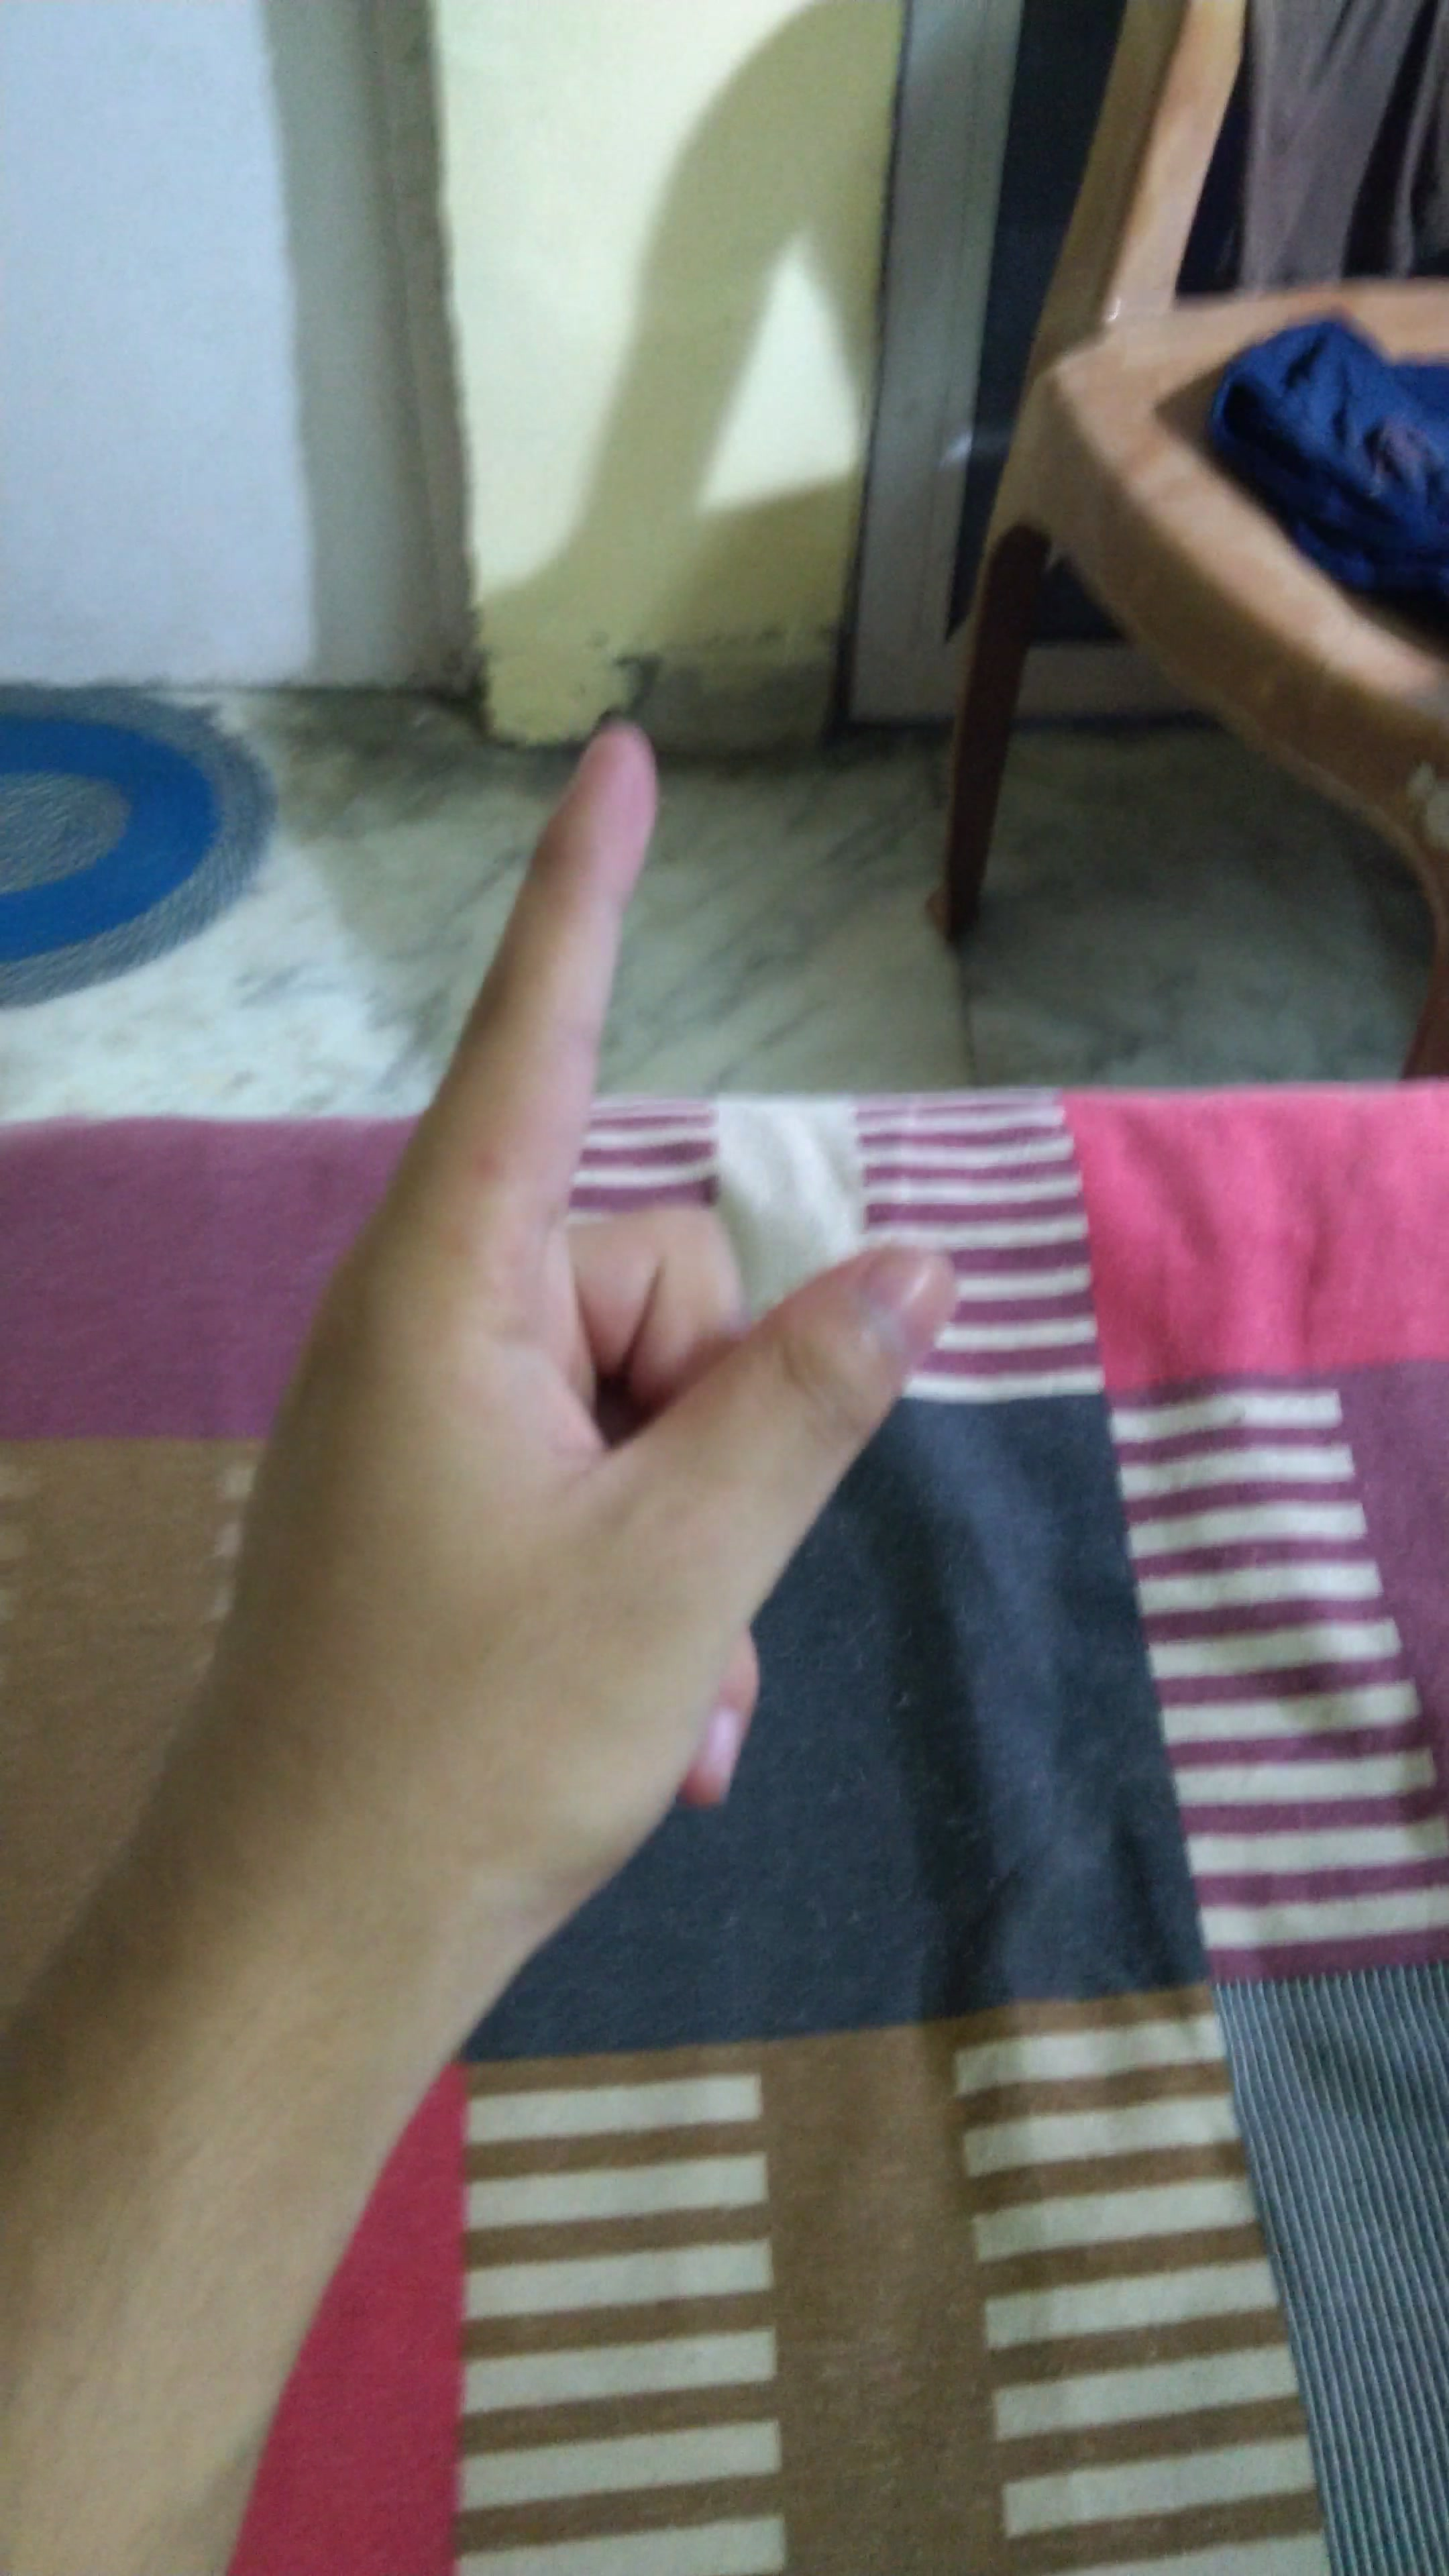hand: (119, 720, 1024, 1930)
